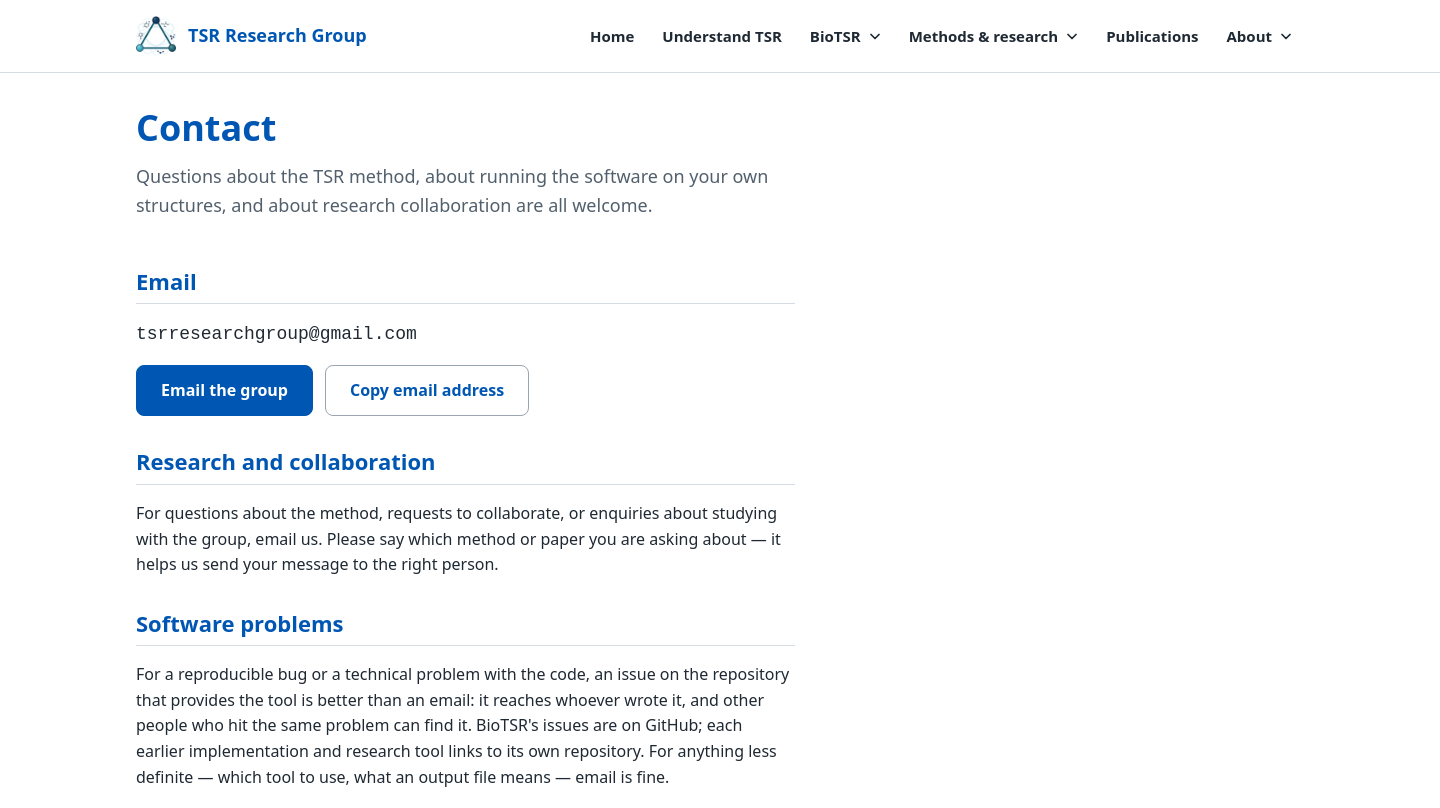
the copy-email button › confirms the copy in a live region
The width and height of the screenshot is (1440, 808).
Click the button "Copy email address".
click(427, 391)  # box [325, 365, 529, 416]
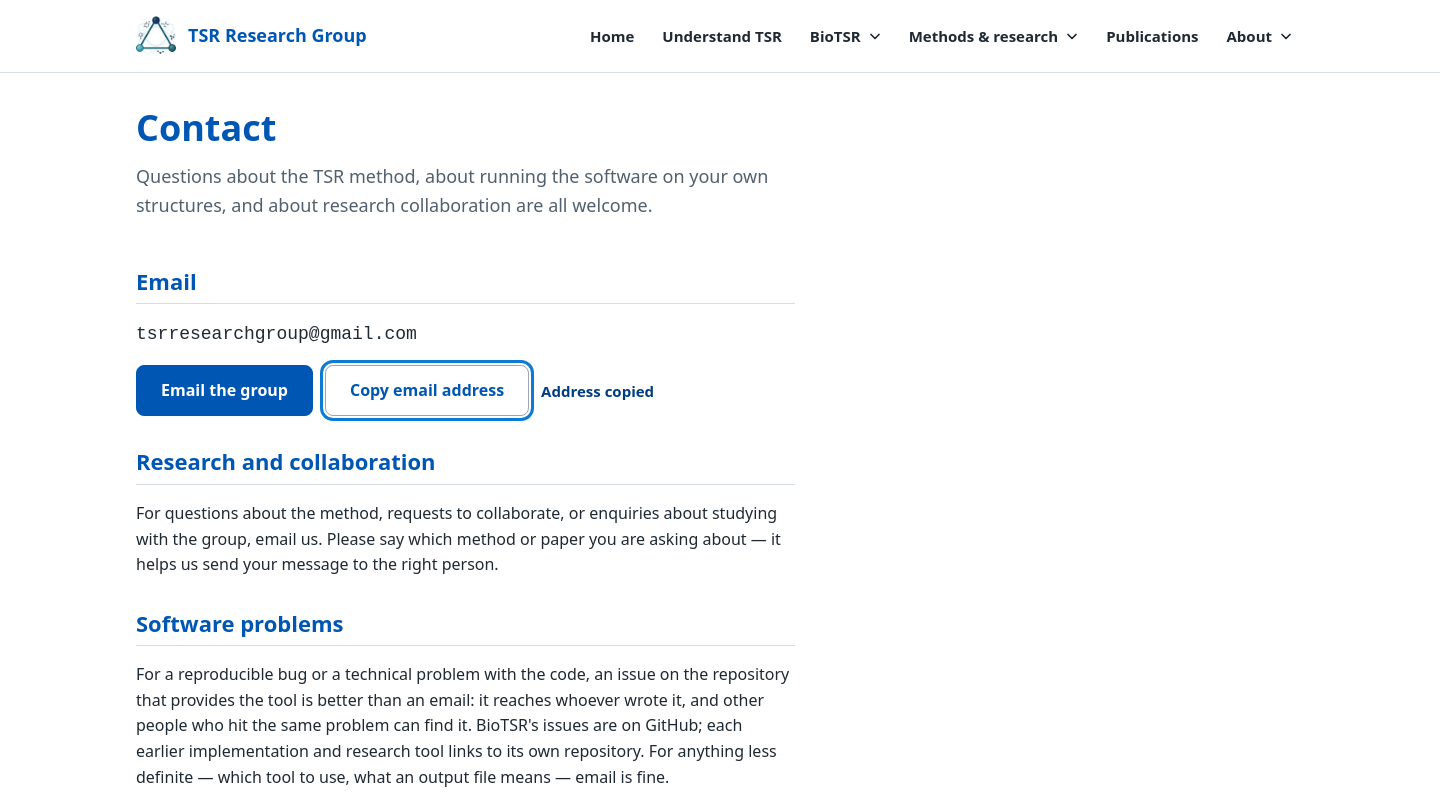
Now the message shows "copied", box [541, 381, 654, 401]
